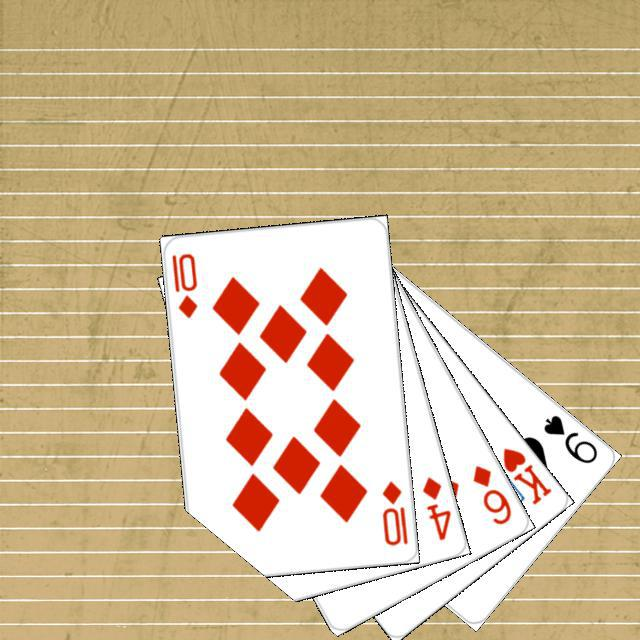10d: (166, 248, 199, 320), (377, 476, 409, 547)
4d: (417, 471, 453, 542)
6d: (467, 460, 513, 527)
9s: (538, 410, 600, 466)
Kh: (482, 443, 553, 507)
